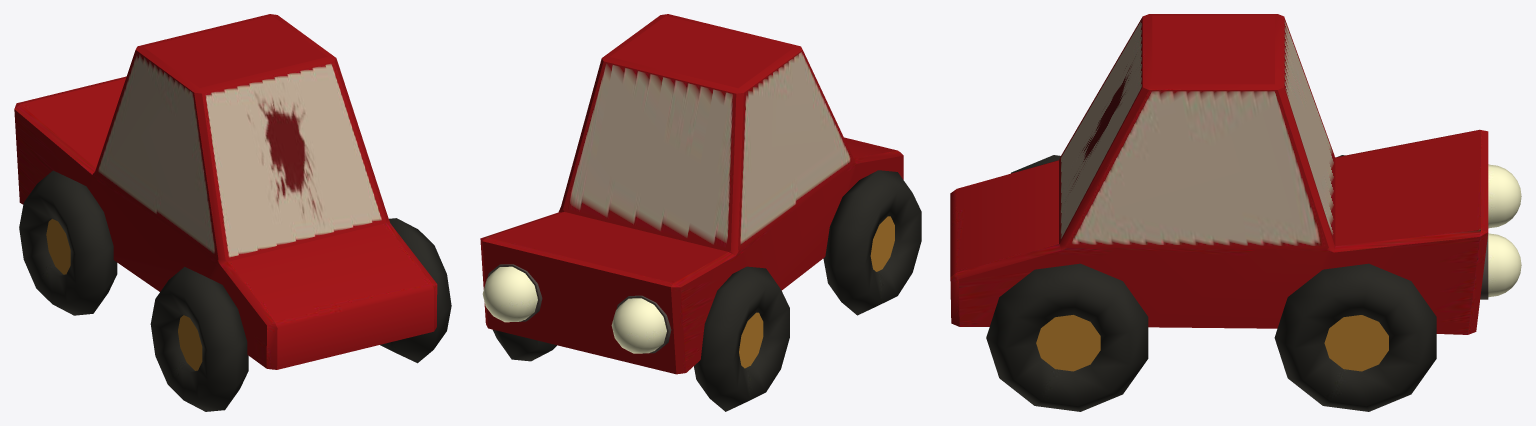
Rendered from Car.FBX.
The picture shows the model from 3 angles, left to right: view 1: azimuth 30°, elevation 25°; view 2: azimuth 150°, elevation 25°; view 3: azimuth 270°, elevation 25°; orthographic projection. The views are drawn at different scales.
Parts seen in each view (by area): view 1: Box002; view 2: Box002; view 3: Box002.
Part boxes in pixels (left/top/right/bottom): Box002: left=14, top=14, right=451, bottom=411; Box002: left=480, top=14, right=921, bottom=411; Box002: left=950, top=14, right=1521, bottom=411.
Bounding box in the file's own units: 162 × 179 × 300.
